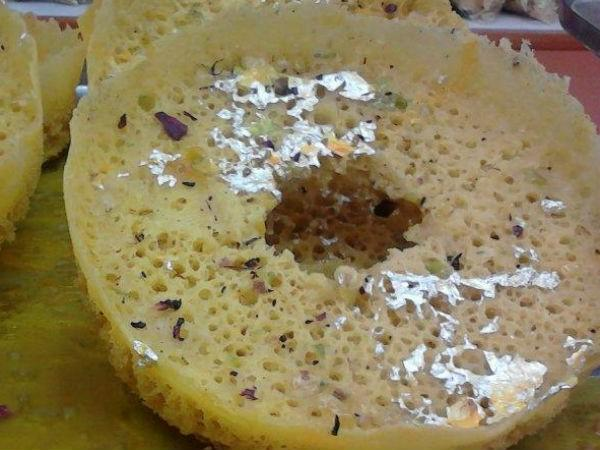Ghevar: (64, 3, 600, 450)
